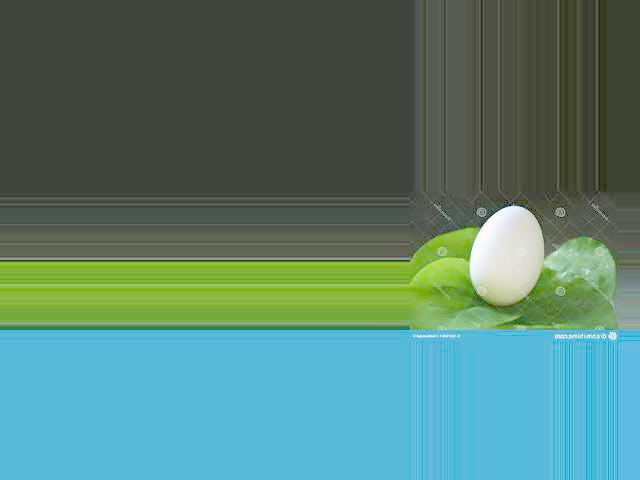egg: (469, 206, 544, 305)
